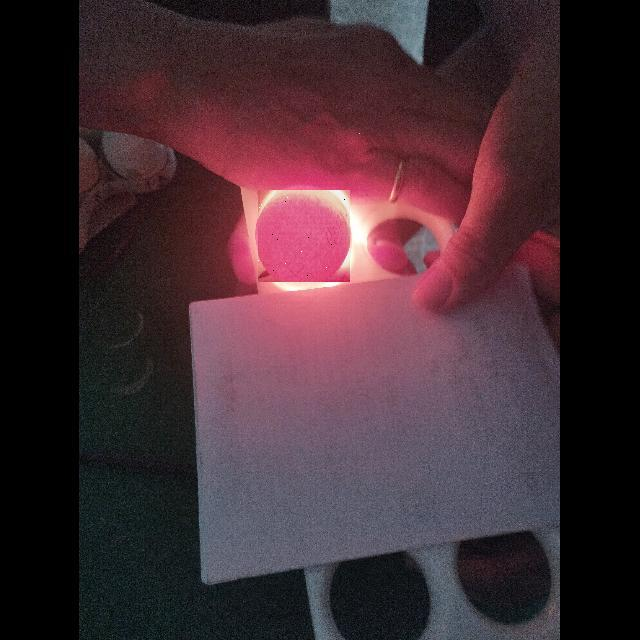Infertile: (258, 190, 350, 282)
